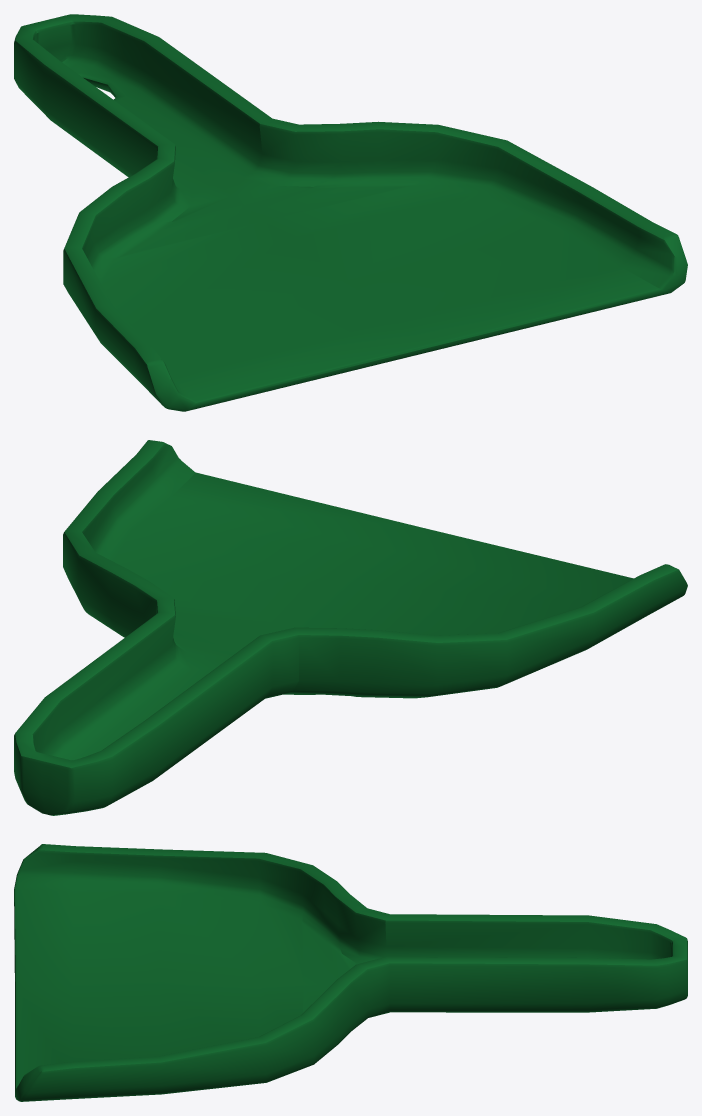
File: case scene 1.fbx
3 views of the same model, one above another, from view 1: azimuth 30°, elevation 25°; view 2: azimuth 150°, elevation 25°; view 3: azimuth 270°, elevation 25° (orthographic). The views are drawn at different scales.
Parts seen in each view (by area): view 1: holder; view 2: holder; view 3: holder.
Boxes of the visible parts, bbox=[...] form: holder: bbox=[14, 14, 687, 411]; holder: bbox=[14, 440, 687, 815]; holder: bbox=[14, 844, 687, 1101].
Bounding box in the file's own units: 254 × 30.05 × 317.
1 material, 1 textured.
